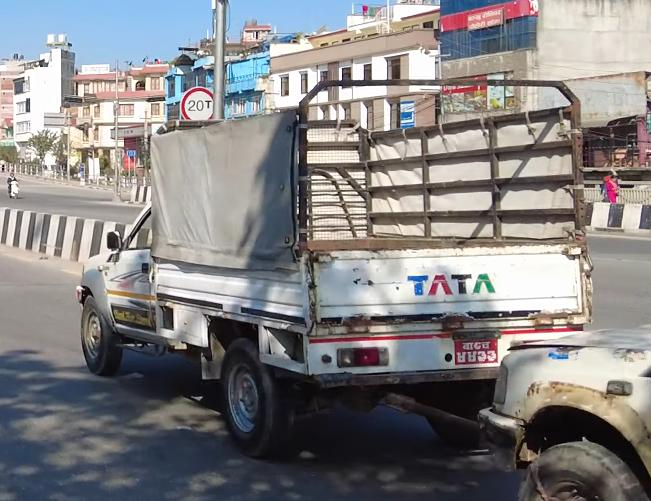transport_vehicle: (74, 69, 590, 464)
